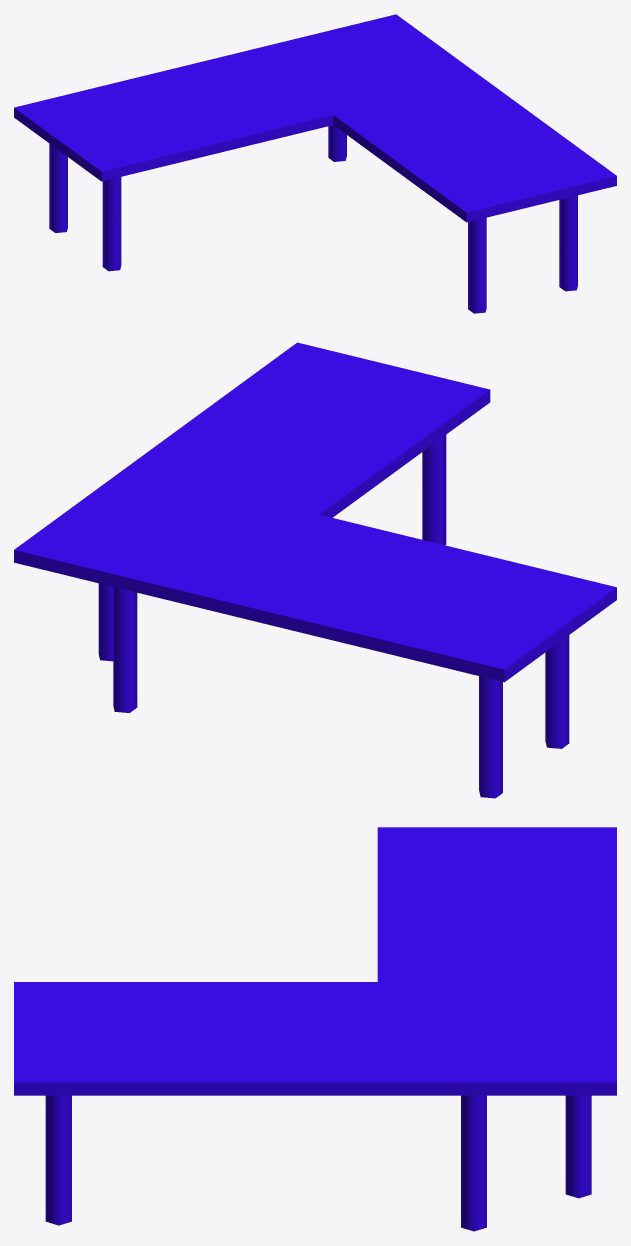
File: office_pack_table_L_large_4_meshCollider.fbx
3 views of the same model, one above another, from view 1: azimuth 30°, elevation 25°; view 2: azimuth 150°, elevation 25°; view 3: azimuth 270°, elevation 25° (orthographic). The views are drawn at different scales.
Visible parts, largest first — view 1: office_pack_table_L_large_4_meshCollider; view 2: office_pack_table_L_large_4_meshCollider; view 3: office_pack_table_L_large_4_meshCollider.
Part boxes in pixels (x1,y1,x2,y2): office_pack_table_L_large_4_meshCollider: (14, 14, 616, 313); office_pack_table_L_large_4_meshCollider: (14, 342, 616, 798); office_pack_table_L_large_4_meshCollider: (14, 827, 616, 1231).
Size of the model in its own units: 150 by 43.61 by 150.
